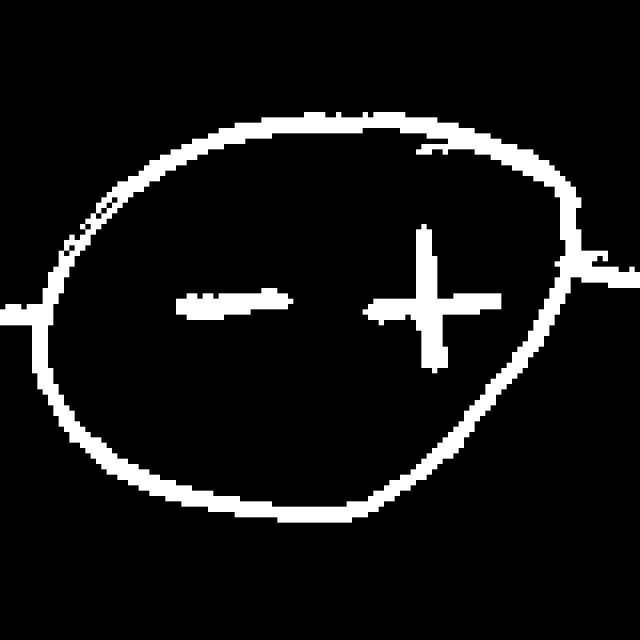voltage_source: (31, 101, 584, 540)
